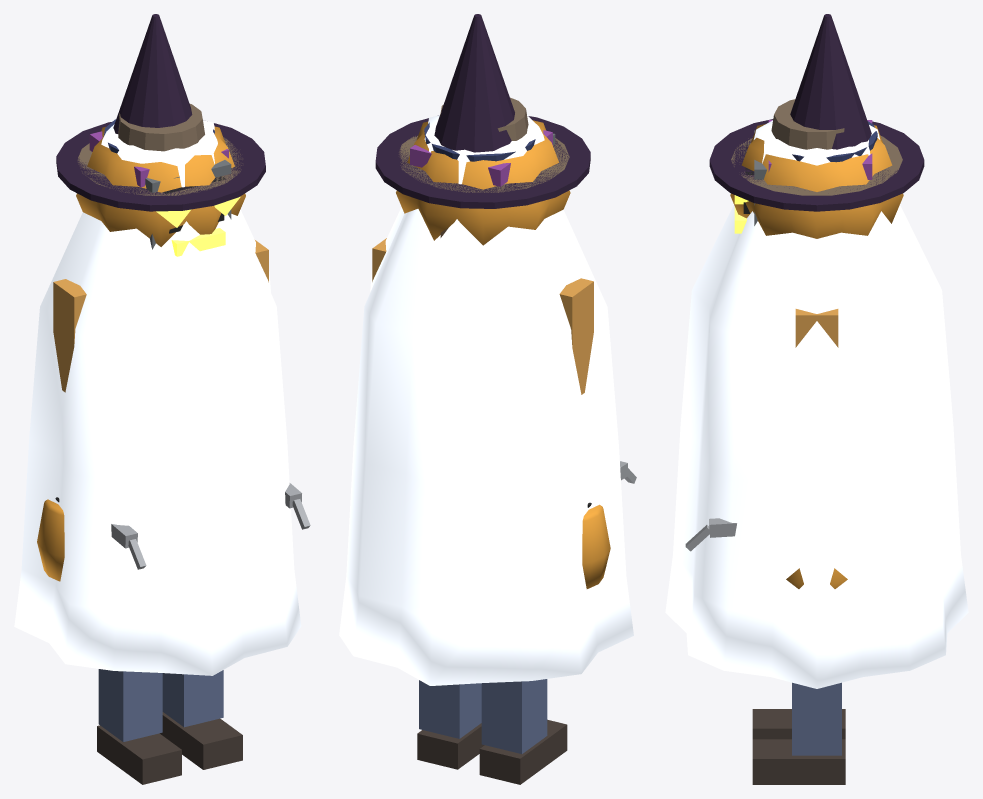
File: character.glb
3 renders of one model, left to right at view 1: azimuth 30°, elevation 25°; view 2: azimuth 150°, elevation 25°; view 3: azimuth 270°, elevation 25°, orthographic. The views are drawn at different scales.
Parts seen in each view (by area): view 1: GhostCostume, Witch_Brim, PumpkinHead, Witch_Cone, LowerLeg_R, Foot_R, LowerLeg_L, Foot_L, UpperArm_R, Fedora_Crown, CandyBag_Pail.001, Fedora_Brim (+4 smaller); view 2: GhostCostume, Witch_Brim, PumpkinHead, Witch_Cone, LowerLeg_R, LowerLeg_L, Foot_R, UpperArm_R, Foot_L, CandyBag_Pail.001, Fedora_Brim, Witch_Band (+2 smaller); view 3: GhostCostume, PumpkinHead, Witch_Brim, Witch_Cone, Foot_L, LowerLeg_L, Fedora_Brim, Fedora_Crown, Foot_R, UpperArm_L, Torch.
Part boxes in pixels (x1,y1,x2,y2): GhostCostume: (14,120,301,675); Witch_Brim: (56,122,265,211); PumpkinHead: (76,126,245,246); Witch_Cone: (113,14,192,133); LowerLeg_R: (98,669,162,741); Foot_R: (97,725,181,784); LowerLeg_L: (162,670,223,727); Foot_L: (160,712,242,769); UpperArm_R: (53,279,86,392); Fedora_Crown: (118,104,204,151); CandyBag_Pail.001: (37,499,64,581); Fedora_Brim: (77,137,242,195); GhostCostume: (339,115,633,685); Witch_Brim: (375,115,590,208); PumpkinHead: (396,120,570,245); Witch_Cone: (434,14,514,152); LowerLeg_R: (481,679,547,753); LowerLeg_L: (419,680,481,738); Foot_R: (479,719,567,784); UpperArm_R: (559,278,593,394); Foot_L: (417,723,484,769); CandyBag_Pail.001: (582,504,610,588); Fedora_Brim: (399,136,569,192); Witch_Band: (410,130,552,186); GhostCostume: (665,120,968,688); PumpkinHead: (730,123,903,238); Witch_Brim: (709,119,924,211); Witch_Cone: (790,14,871,149); Foot_L: (752,739,845,784); LowerLeg_L: (792,682,841,755); Fedora_Brim: (731,135,902,195); Fedora_Crown: (771,99,844,149); Foot_R: (752,709,845,739); UpperArm_L: (795,309,838,347); Torch: (685,518,736,551).
Size of the model in its own units: 0.8309 by 2.29 by 0.8471.
